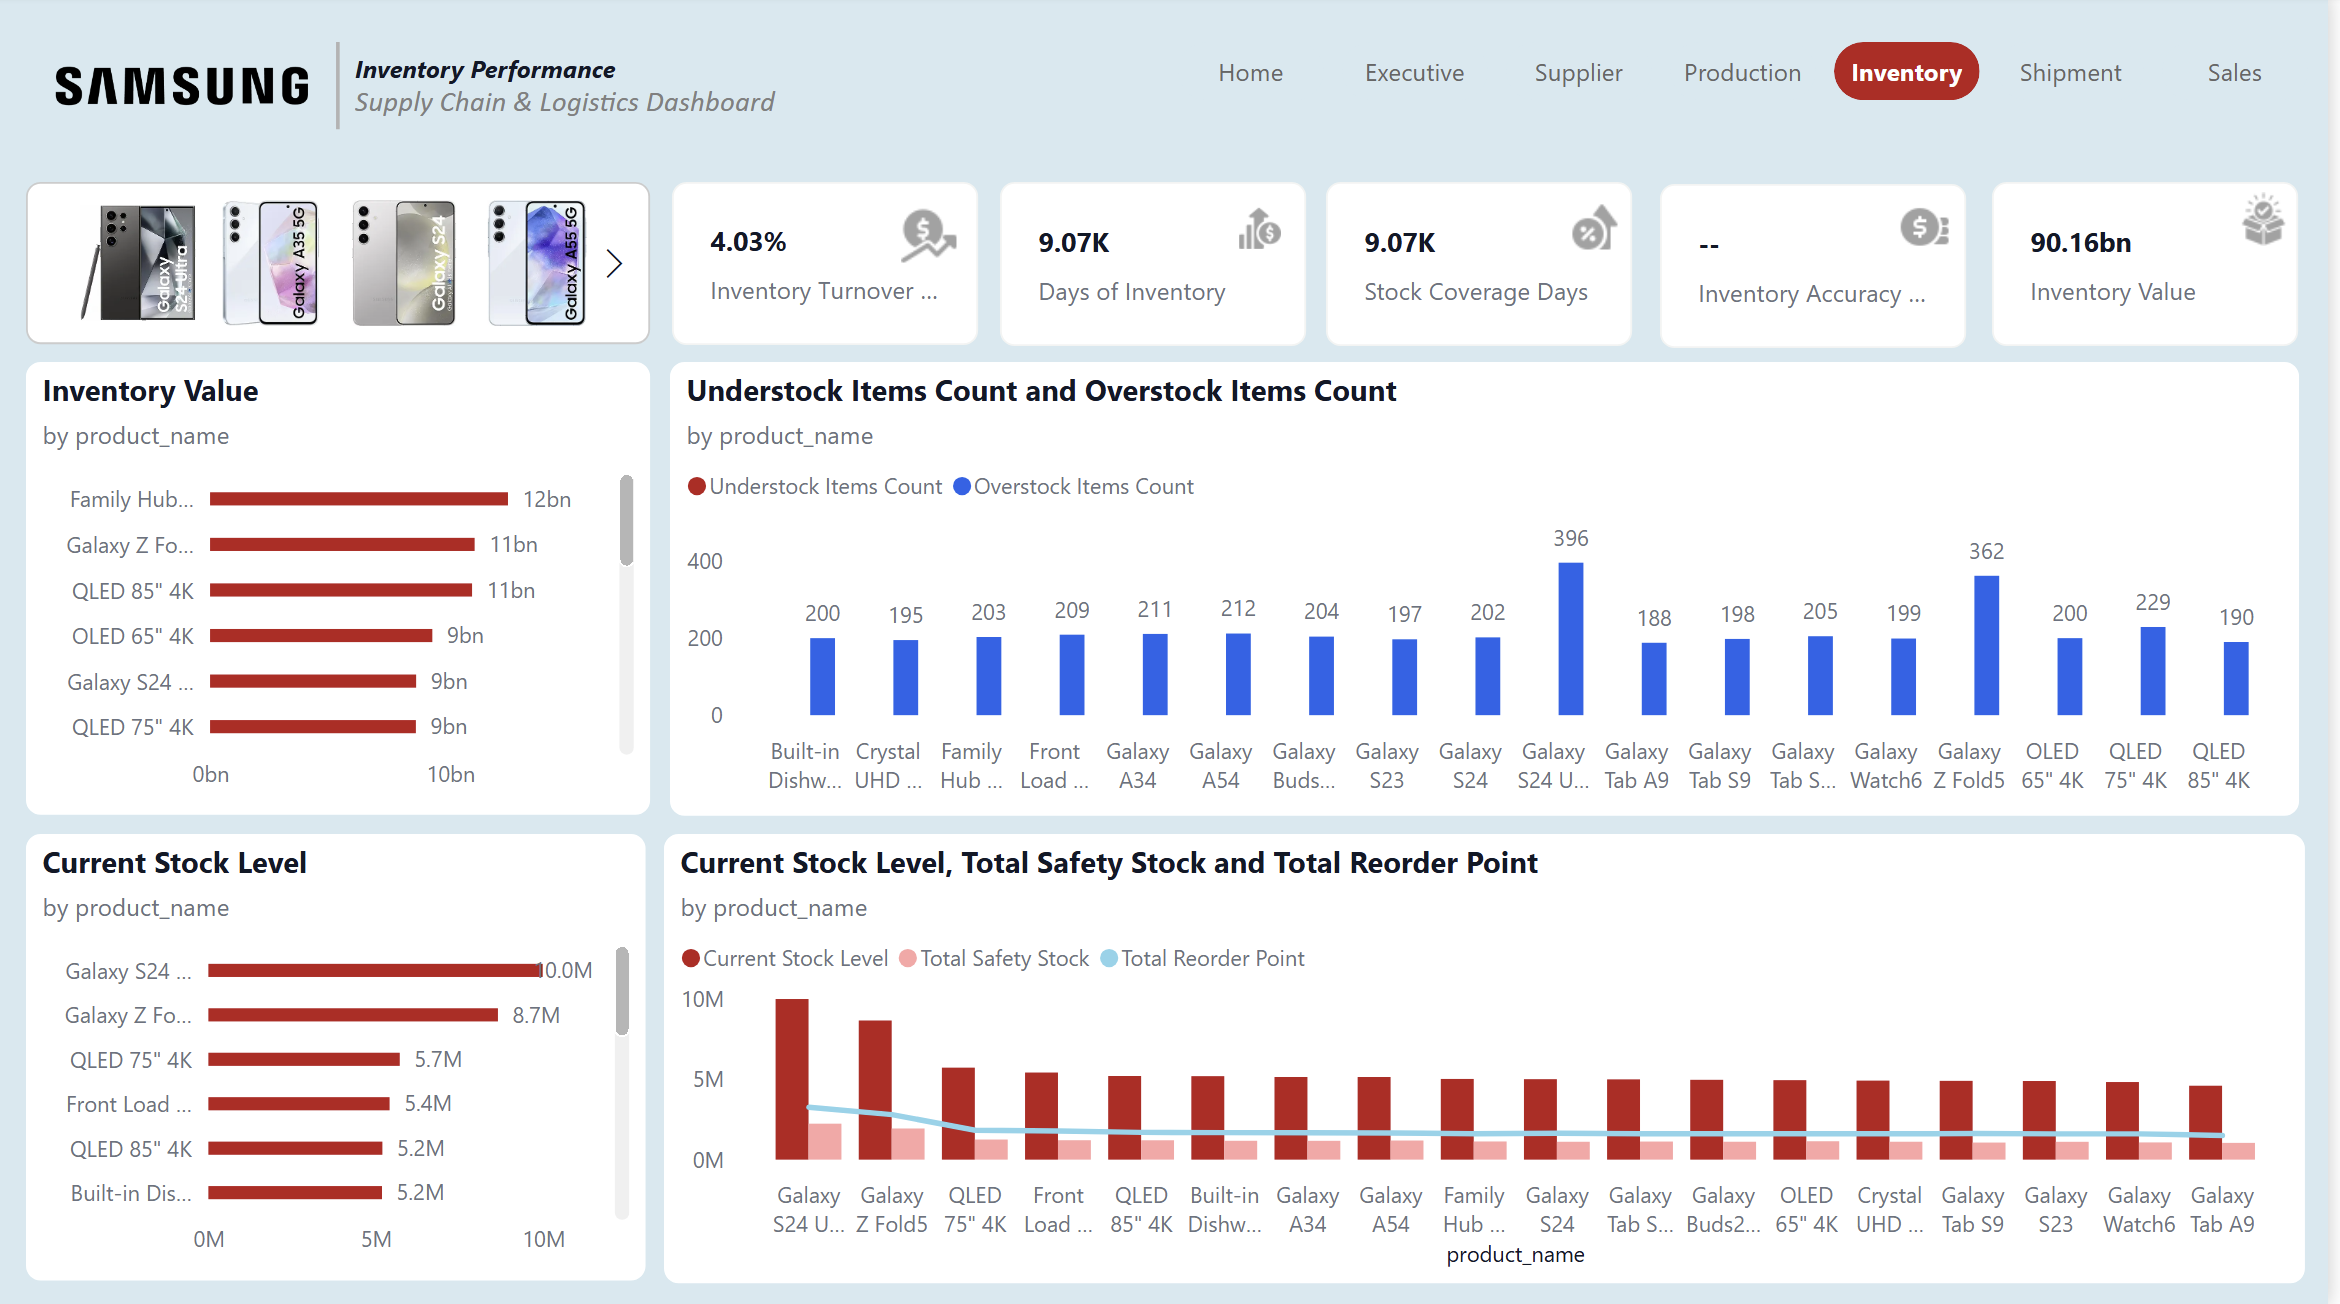

Layout of this report page (visuals, bound fields, positions):
{"tool":"powerbi","page":{"name":"Inventory","canvas":[1280,720],"ordinal":4},"visuals":[{"type":"lineClusteredColumnComboChart","fields":{"Category":["dim_product.product_name"],"Y":["MeasureTable.Current Stock Level","MeasureTable.Total Safety Stock"],"Y2":["MeasureTable.Total Reorder Point"]},"box":[366.7,460.9,900.7,246.7],"z":0},{"type":"clusteredColumnChart","fields":{"Category":["dim_product.product_name"],"Y":["MeasureTable.Understock Items Count","MeasureTable.Overstock Items Count"]},"box":[370.2,202.4,894.1,248.8],"z":1000},{"type":"clusteredBarChart","fields":{"Category":["dim_product.product_name"],"Y":["MeasureTable.Current Stock Level"]},"box":[16.3,460.6,340.1,244.8],"z":2000},{"type":"cardVisual","fields":{"Data":["MeasureTable.Inventory Value"]},"box":[1095.2,103.4,168,90],"z":3000},{"type":"cardVisual","fields":{"Data":["MeasureTable.Inventory Turnover Ratio"]},"box":[370.7,103,167.9,89.3],"z":4000},{"type":"cardVisual","fields":{"Data":["MeasureTable.Stock Coverage Days"]},"box":[730.4,102.9,168,90],"z":5000},{"type":"cardVisual","fields":{"Data":["MeasureTable.Inventory Accuracy %"]},"box":[912.8,103.8,168,90],"z":6000},{"type":"cardVisual","fields":{"Data":["MeasureTable.Days of Inventory"]},"box":[550.5,102.9,168,90],"z":7000},{"type":"image","box":[492,111.9,40.5,40.5],"z":8000},{"type":"image","box":[676.7,110.6,32.9,35.4],"z":9000},{"type":"image","box":[857.6,108.1,40.5,40.5],"z":10000},{"type":"image","box":[1039.7,107.7,38,40.5],"z":11000},{"type":"image","box":[1224.4,103.5,39.2,40.5],"z":12000},{"type":"clusteredBarChart","fields":{"Category":["dim_product.product_name"],"Y":["MeasureTable.Inventory Value"]},"box":[16.3,202.1,342.7,248.5],"z":13000},{"type":"image","box":[16.7,26.4,164.3,47.6],"z":14000},{"type":"textbox","box":[192.3,26.4,294.8,48.1],"z":15000},{"type":"shape","box":[159.3,26.5,56.9,48.1],"z":16000},{"type":"pageNavigator","box":[648.8,26.2,621.4,32.1],"z":17000},{"type":"advancedSlicerVisual","fields":{"Values":["dim_product.Img"]},"box":[16.3,102.9,342.7,89.1],"z":18000}]}

Visuals, with their boxes in screenshot pixels (x1, y1, x2, y2), scaled from the page's 1280x720 canvas onto the 2340x1304 screenshot:
lineClusteredColumnComboChart - dim_product.product_name x MeasureTable.Current Stock Level: 670:835:2317:1282
clusteredColumnChart - dim_product.product_name x MeasureTable.Understock Items Count: 677:367:2311:817
clusteredBarChart - dim_product.product_name x MeasureTable.Current Stock Level: 30:834:652:1278
cardVisual - MeasureTable.Inventory Value: 2002:187:2309:350
cardVisual - MeasureTable.Inventory Turnover Ratio: 678:187:985:348
cardVisual - MeasureTable.Stock Coverage Days: 1335:186:1642:349
cardVisual - MeasureTable.Inventory Accuracy %: 1669:188:1976:351
cardVisual - MeasureTable.Days of Inventory: 1006:186:1314:349
image: 899:203:973:276
image: 1237:200:1297:264
image: 1568:196:1642:269
image: 1901:195:1970:268
image: 2238:187:2310:261
clusteredBarChart - dim_product.product_name x MeasureTable.Inventory Value: 30:366:656:816
image: 31:48:331:134
textbox: 352:48:890:135
shape: 291:48:395:135
pageNavigator: 1186:47:2322:106
advancedSlicerVisual - dim_product.Img: 30:186:656:348
